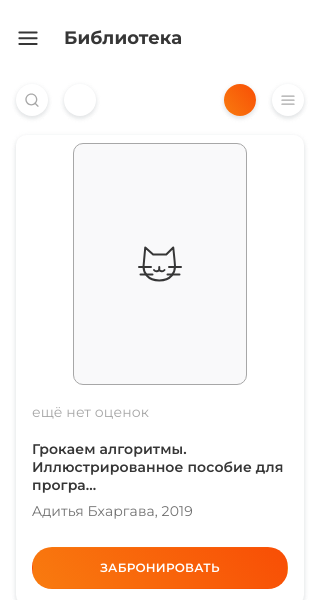
Test case: Test width 320px › test search
The image size is (320, 600).
Step 1. Click the button with test id "button-search-open" → (32, 100), box [16, 84, 48, 116]
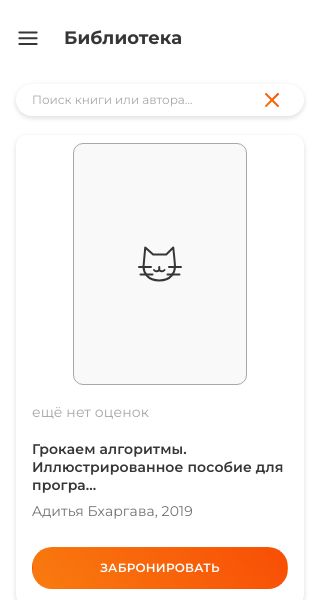
Now the field with test id "input-search" is shown, box [32, 91, 256, 109]
Step 2. Click the button with test id "button-search-close" → (272, 100), box [256, 84, 288, 116]
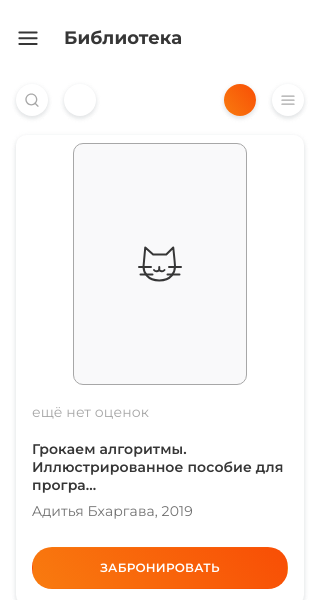
Now the field with test id "input-search" is gone
